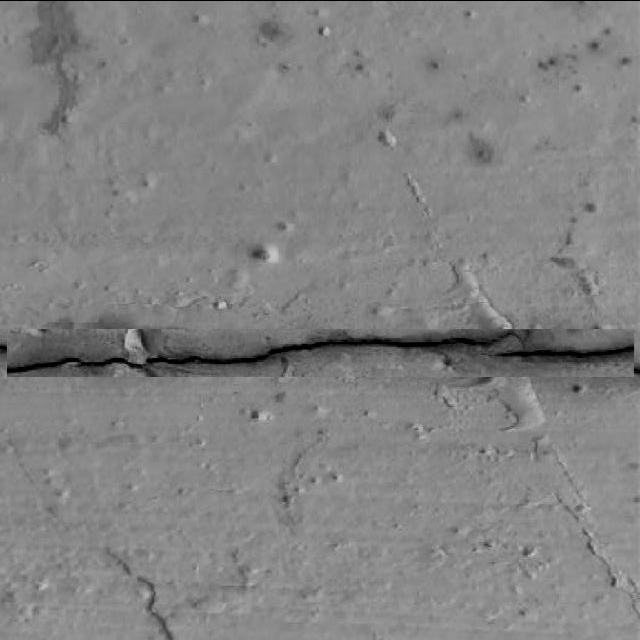crack: (0, 305, 634, 425)
